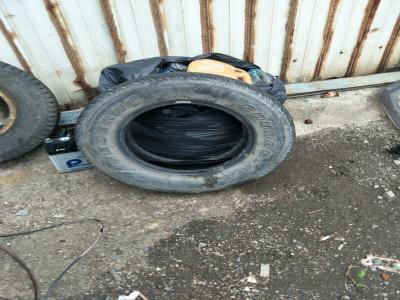tire: (71, 70, 298, 195)
